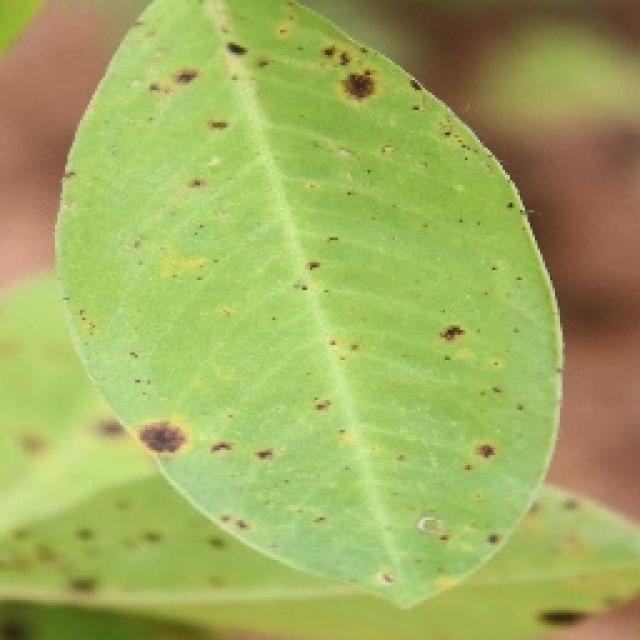Yellowish: (65, 1, 532, 580)
